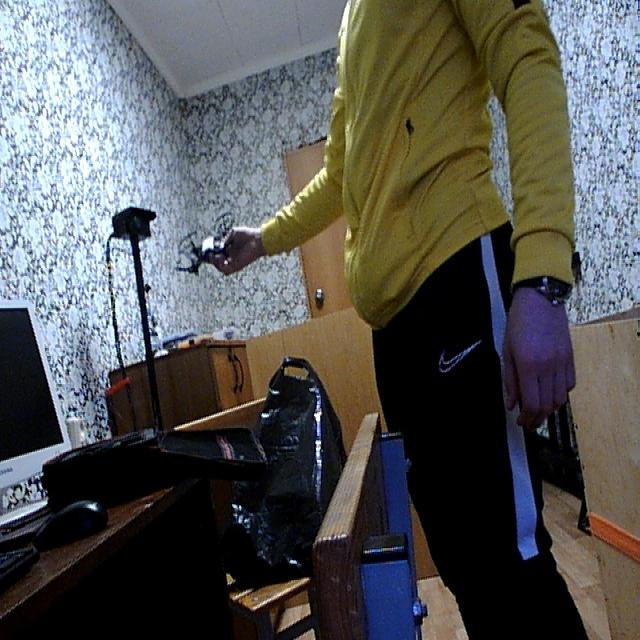drone: (174, 206, 242, 276)
